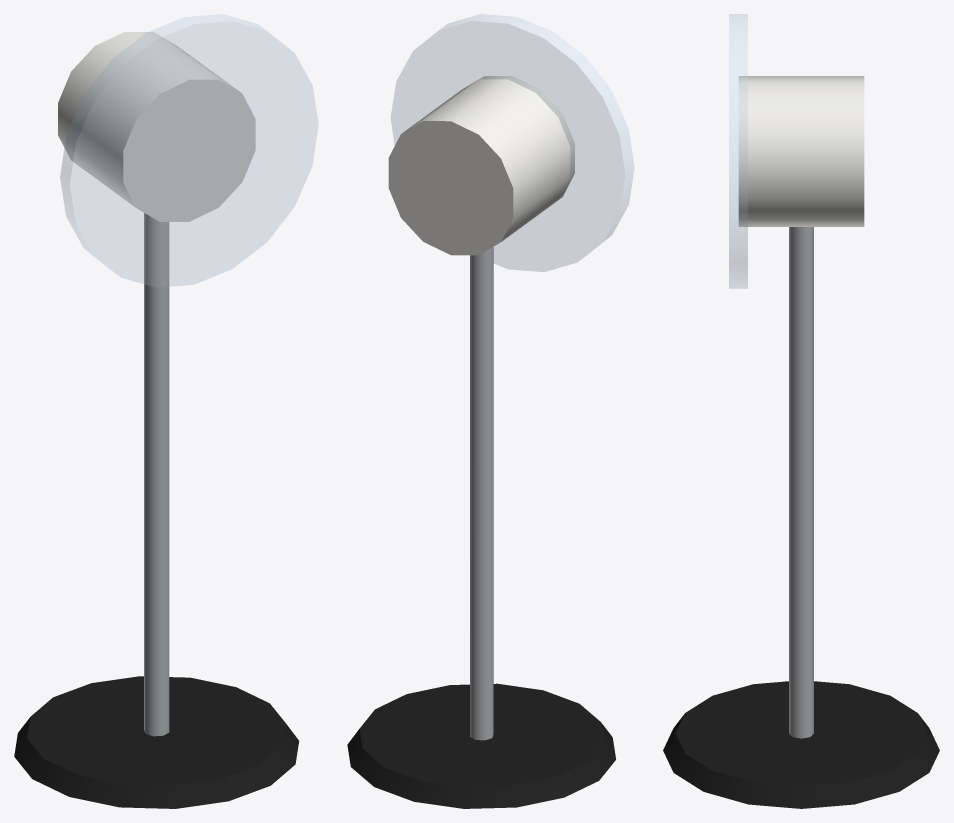
Rendered from fan.glb.
The picture shows the model from 3 angles, left to right: view 1: azimuth 30°, elevation 25°; view 2: azimuth 150°, elevation 25°; view 3: azimuth 270°, elevation 25°; orthographic projection. The views are drawn at different scales.
Visible parts, largest first — view 1: fan; view 2: fan; view 3: fan.
Boxes of the visible parts, x1=… form: fan: x1=14, y1=14, x2=318, y2=808; fan: x1=347, y1=14, x2=634, y2=808; fan: x1=663, y1=14, x2=939, y2=808.
Size of the model in its own units: 0.44 by 1.27 by 0.44.
